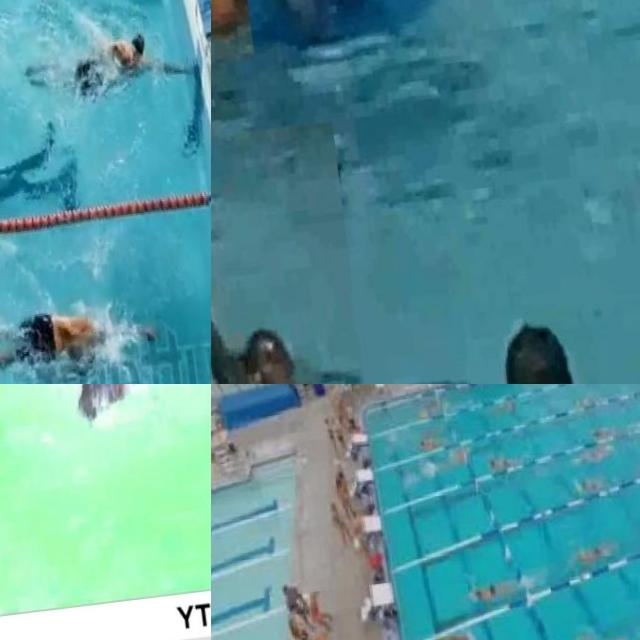drowning: (211, 120, 382, 384)
out of water: (278, 583, 308, 615), (301, 597, 327, 629), (283, 615, 315, 640)
swimming: (461, 283, 640, 384), (0, 281, 167, 384), (0, 384, 211, 452), (211, 0, 254, 76), (466, 574, 520, 614), (574, 541, 620, 573), (571, 623, 634, 640), (578, 444, 616, 466), (432, 621, 473, 640), (574, 476, 604, 500), (418, 430, 444, 456), (484, 454, 521, 470), (593, 428, 615, 443), (632, 461, 640, 482)
